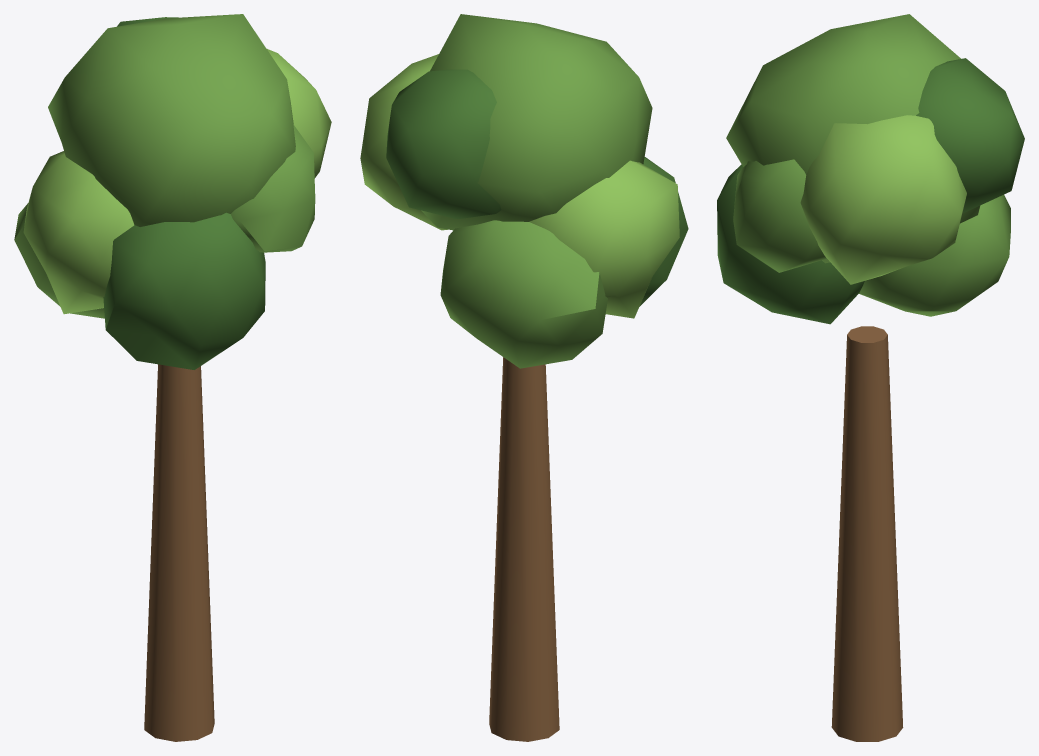
Rendered from tree.glb.
The picture shows the model from 3 angles, left to right: view 1: azimuth 30°, elevation 25°; view 2: azimuth 150°, elevation 25°; view 3: azimuth 270°, elevation 25°; orthographic projection.
Visible parts, largest first — view 1: tree; view 2: tree; view 3: tree.
Boxes of the visible parts, box(x1,y1,x2,y2) form: tree: box(14, 14, 331, 741); tree: box(360, 14, 688, 741); tree: box(717, 14, 1024, 741).
Bounding box in the file's own units: 1.29 × 3.01 × 1.21.
Materials: 1 (1 with a texture image).
